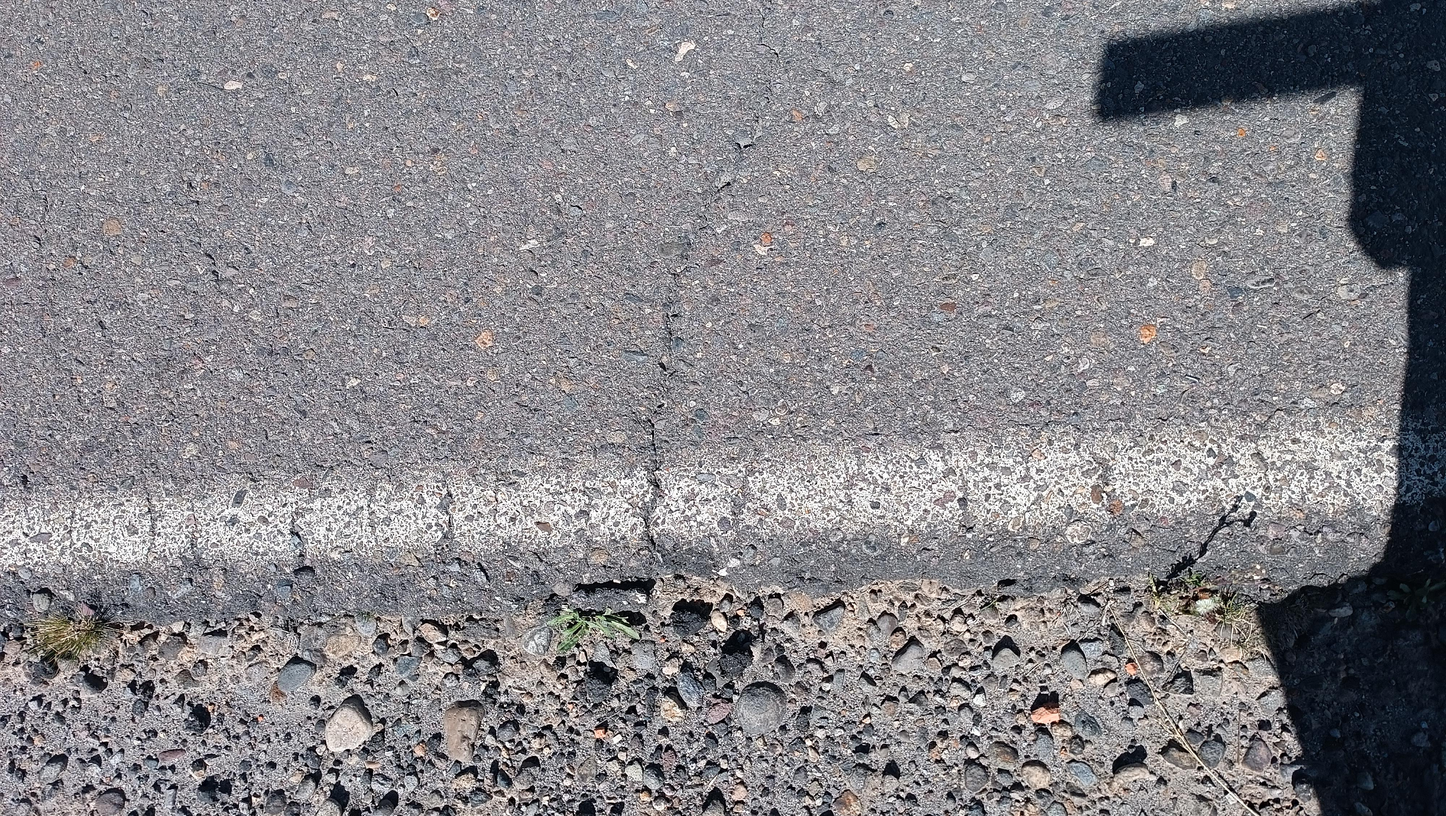GRIETA: (648, 1, 781, 396), (644, 400, 668, 551)
